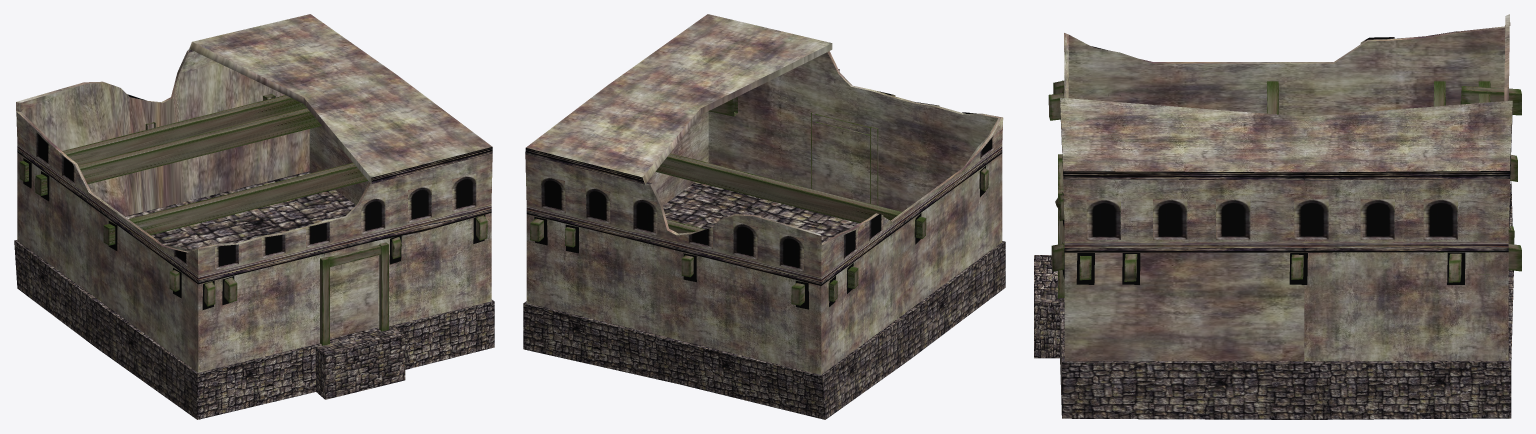
Rendered from fort_eitc_burned.fbx.
3 views of the same model, side by side, from view 1: azimuth 30°, elevation 25°; view 2: azimuth 150°, elevation 25°; view 3: azimuth 270°, elevation 25° (orthographic). The views are drawn at different scales.
Visible parts, largest first — view 1: barracks2, barracks3, beam_24.001, beam_21.001, steps, beam_23.001, doorframe, window15, window17, window16, window20, window19 (+1 smaller); view 2: barracks2, barracks3, beam_21.001, window8, window7, window5, window4, window3, beam_24.001, doorframe; view 3: barracks2, barracks3, steps, window13, window12, window11, window10, window9, window14, beam_22.002, doorframe.
Part boxes in pixels (left/top/right/bottom): barracks2: left=14, top=14, right=494, bottom=419; barracks3: left=21, top=50, right=378, bottom=338; beam_24.001: left=35, top=108, right=321, bottom=195; beam_21.001: left=103, top=163, right=367, bottom=245; steps: left=315, top=327, right=405, bottom=399; beam_23.001: left=19, top=95, right=306, bottom=181; doorframe: left=320, top=242, right=388, bottom=345; window15: left=452, top=173, right=476, bottom=211; window17: left=361, top=196, right=385, bottom=234; window16: left=408, top=184, right=431, bottom=222; window20: left=215, top=244, right=238, bottom=269; window19: left=261, top=234, right=285, bottom=258; barracks2: left=523, top=14, right=1005, bottom=419; barracks3: left=646, top=52, right=998, bottom=211; beam_21.001: left=655, top=153, right=926, bottom=238; window8: left=779, top=233, right=803, bottom=271; window7: left=733, top=221, right=757, bottom=259; window5: left=633, top=197, right=657, bottom=235; window4: left=585, top=186, right=610, bottom=223; window3: left=540, top=175, right=565, bottom=212; beam_24.001: left=666, top=219, right=858, bottom=288; doorframe: left=811, top=112, right=878, bottom=205; barracks2: left=1059, top=14, right=1513, bottom=419; barracks3: left=1068, top=25, right=1505, bottom=116; steps: left=1034, top=255, right=1059, bottom=358; window13: left=1153, top=199, right=1187, bottom=239; window12: left=1216, top=199, right=1250, bottom=239; window11: left=1294, top=199, right=1328, bottom=239; window10: left=1360, top=199, right=1394, bottom=239; window9: left=1423, top=199, right=1457, bottom=239; window14: left=1086, top=199, right=1120, bottom=239; beam_22.002: left=1460, top=86, right=1521, bottom=115; doorframe: left=1058, top=154, right=1064, bottom=298.
Bounding box in the file's own units: 4218 × 2574 × 4616.
5 materials, 5 textured.
